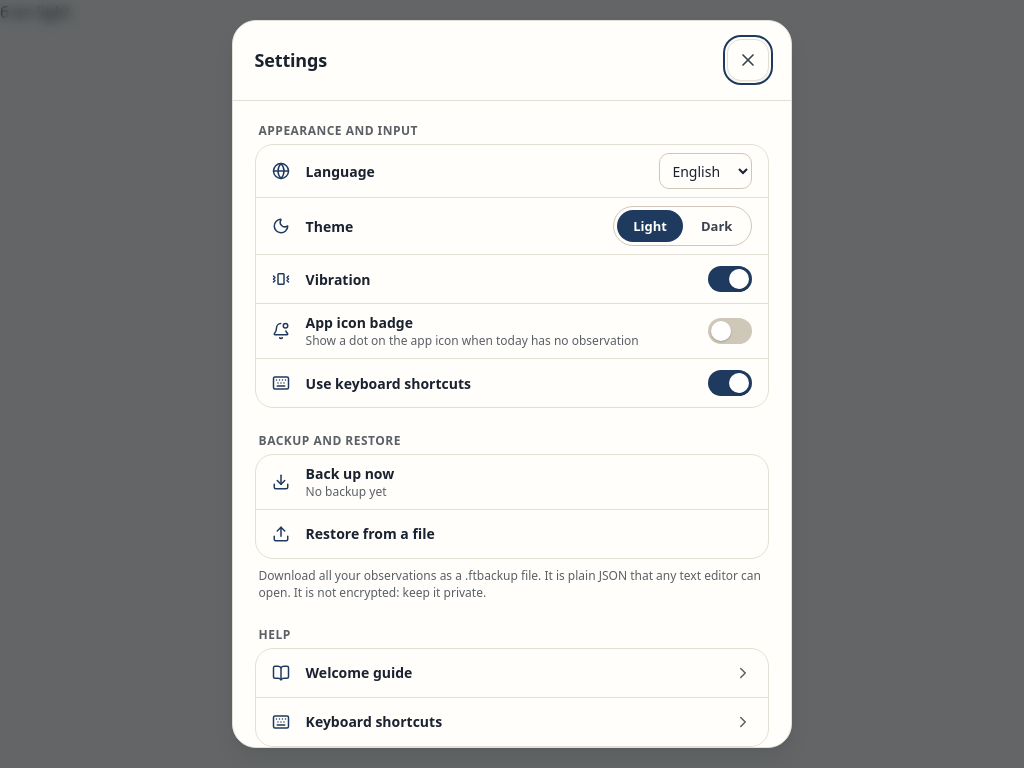
Test case: SettingsDialog › downloads the data as a .ftbackup file of plain JSON, and stays open
What coordinates should you click on to do the following:
click the button "Back up now No backup yet"
I would click on:
 (350, 474)
Its box is 256,455 -> 768,509.
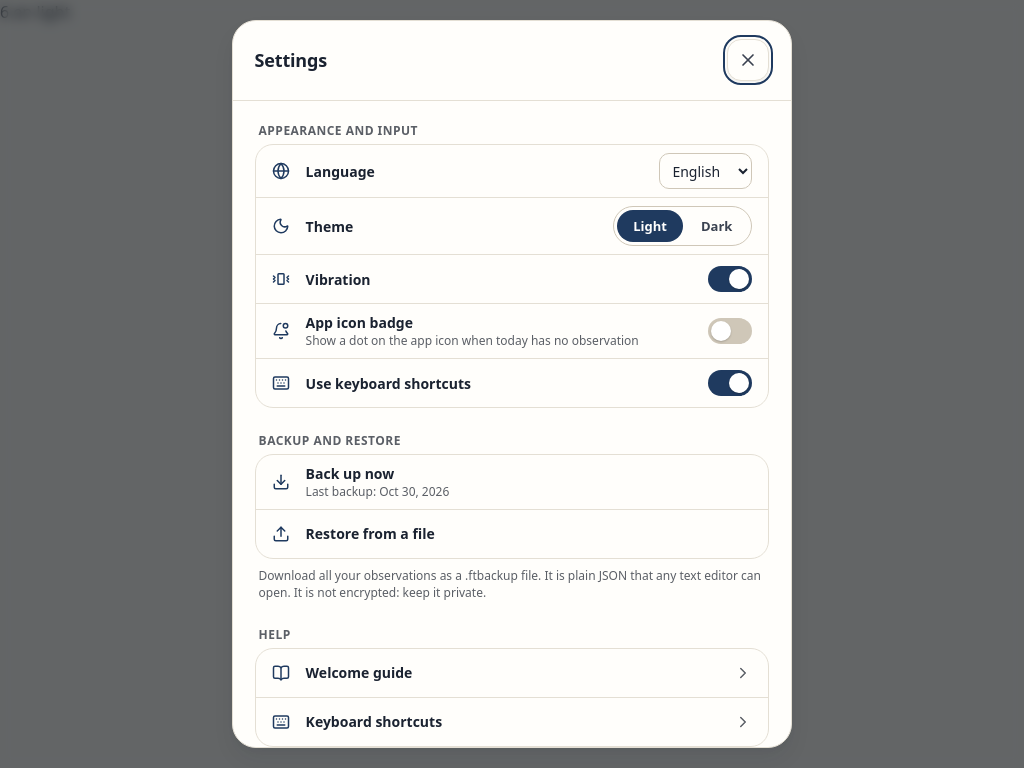
Expected: the button "No backup yet" is gone
